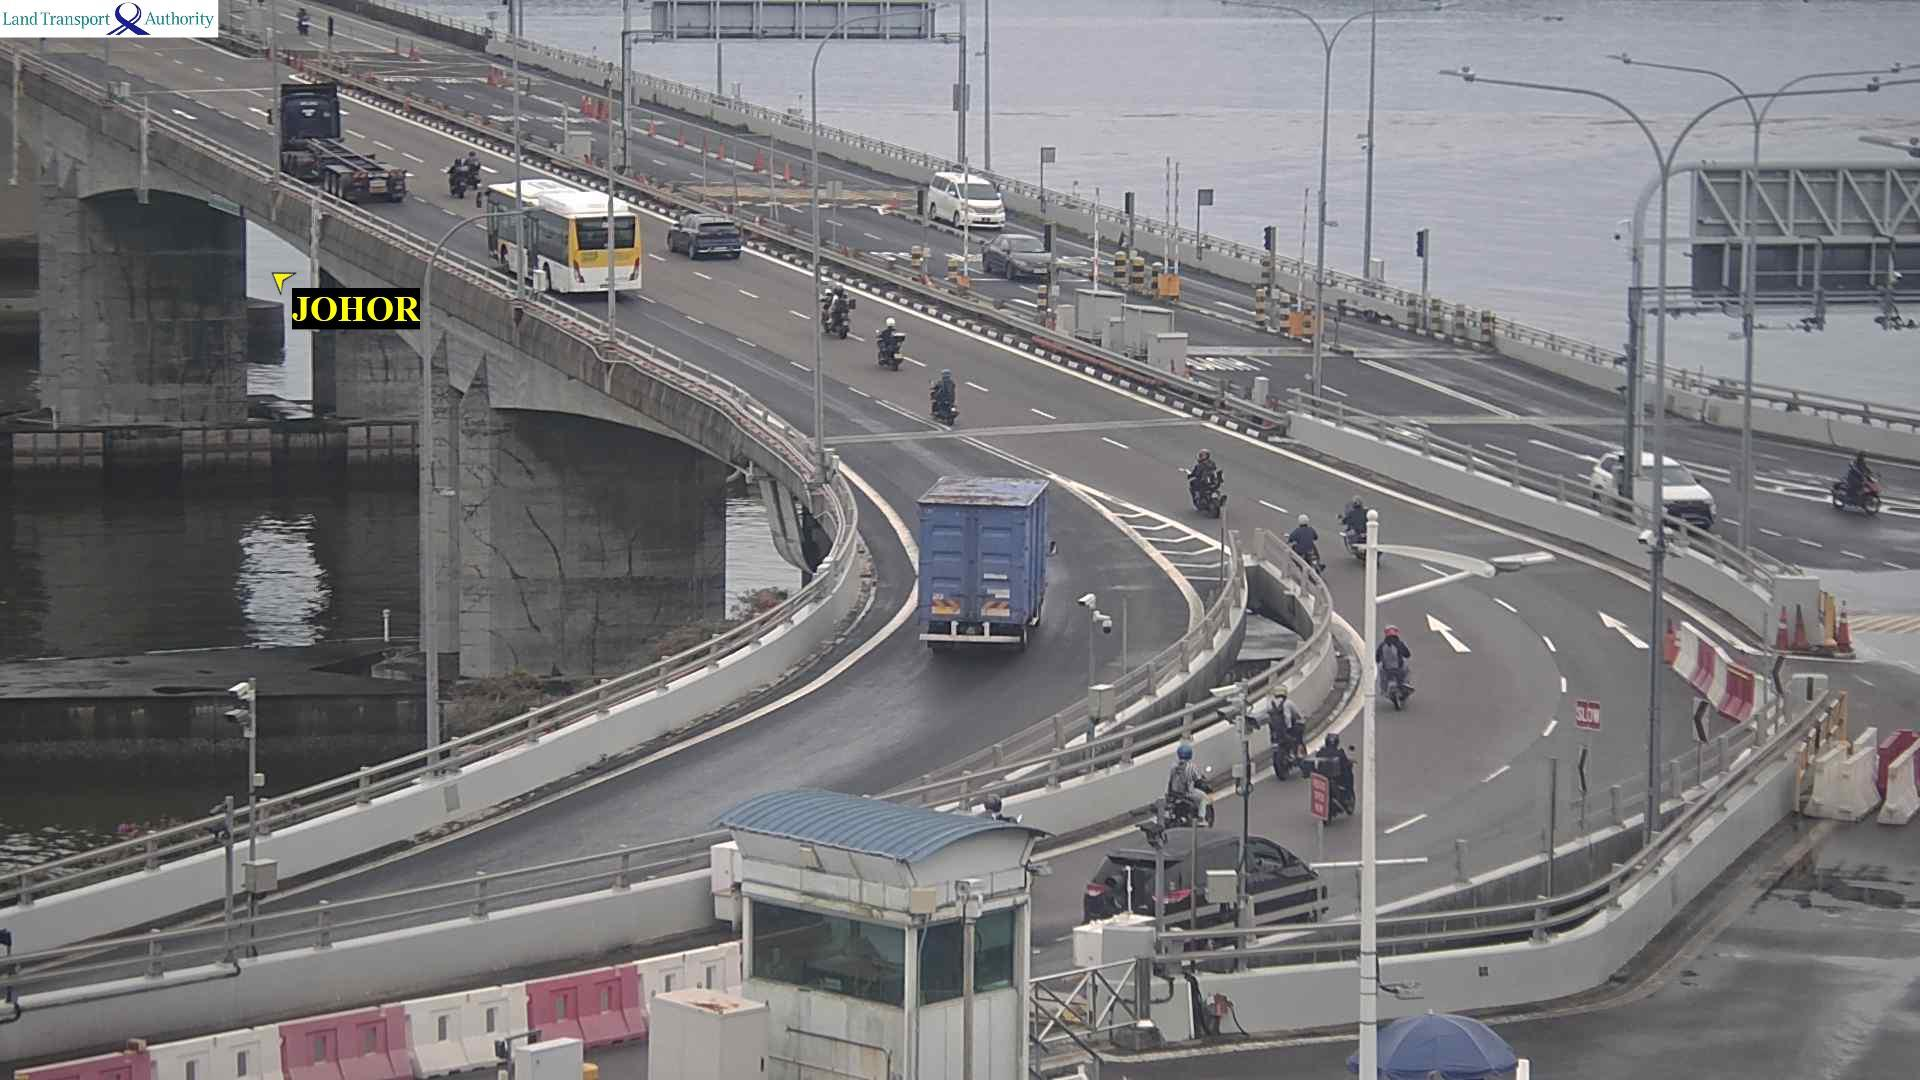vehicle-secondlink-johor: (1081, 832, 1332, 919), (923, 476, 1046, 649), (497, 183, 647, 278), (1305, 740, 1370, 827), (1154, 756, 1226, 831), (1255, 696, 1319, 778), (1371, 629, 1419, 709), (670, 214, 742, 260), (1176, 454, 1229, 516), (278, 83, 342, 131), (1282, 521, 1328, 572), (926, 375, 969, 427), (825, 287, 864, 343), (1335, 498, 1377, 549), (870, 318, 907, 368), (446, 156, 483, 196)
vehicle-secondlink-singapore: (1597, 452, 1713, 534), (920, 174, 1009, 228), (1837, 458, 1913, 518), (978, 235, 1058, 280), (291, 8, 311, 34)
